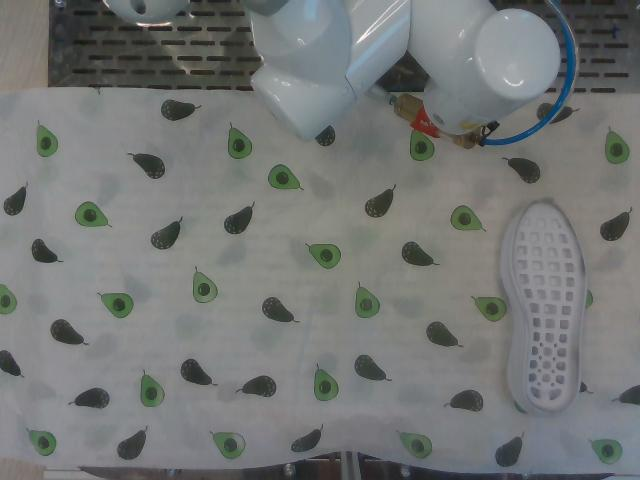shoes: (512, 198, 586, 413)
